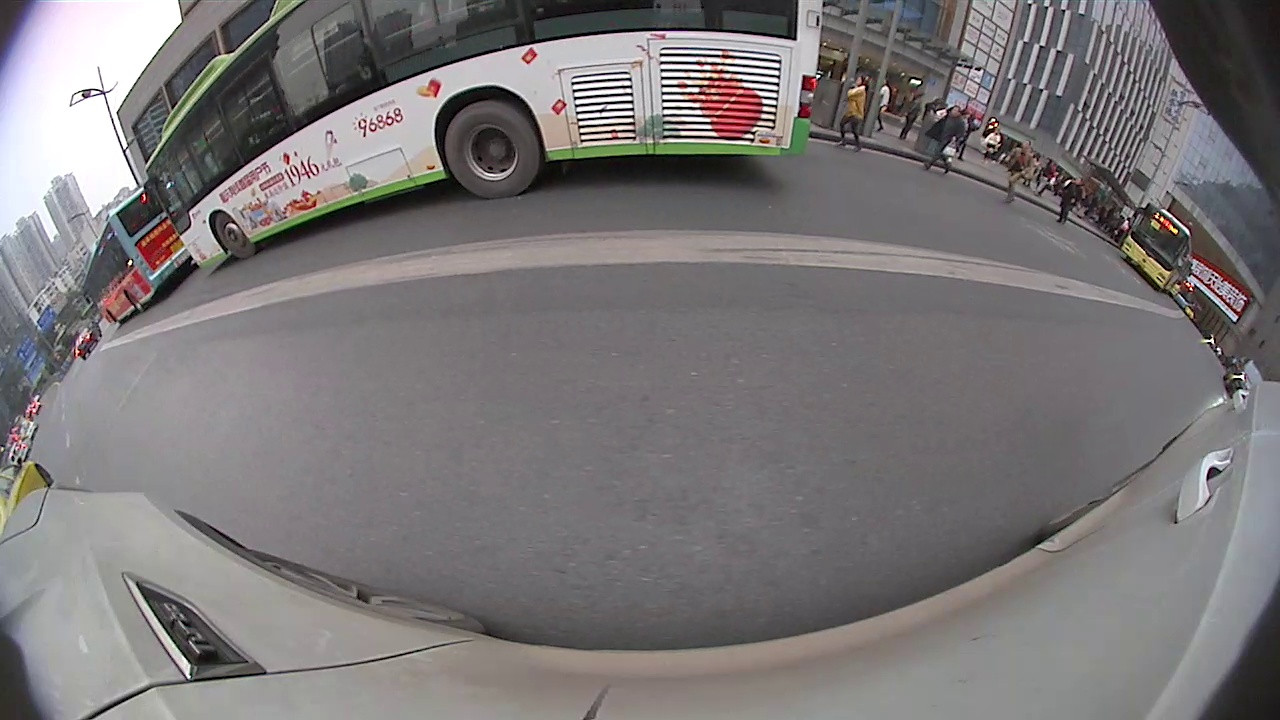bus: (143, 1, 824, 276), (85, 189, 190, 322), (1118, 205, 1193, 290)
car: (1224, 354, 1266, 400), (73, 327, 102, 359)
front: (203, 213, 258, 258)
person: (940, 102, 962, 174), (849, 73, 868, 150), (1013, 137, 1031, 201), (1066, 173, 1078, 225)
rear: (441, 103, 546, 200)
